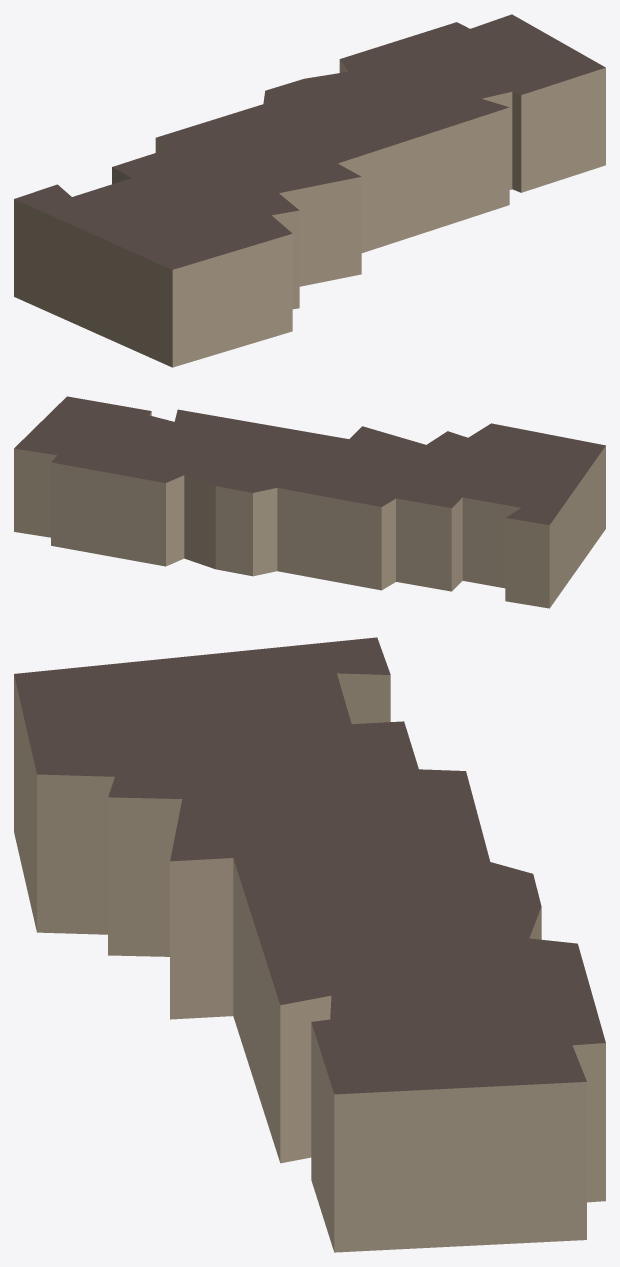
3 renders of one model, top to bottom at view 1: azimuth 30°, elevation 25°; view 2: azimuth 150°, elevation 25°; view 3: azimuth 270°, elevation 25°, orthographic. The views are drawn at different scales.
Visible parts, largest first — view 1: HP-w1516161972; view 2: HP-w1516161972; view 3: HP-w1516161972.
Boxes of the visible parts, box(x1,y1,x2,y2) form: HP-w1516161972: box(14, 14, 605, 367); HP-w1516161972: box(14, 396, 605, 608); HP-w1516161972: box(14, 637, 605, 1252).
Size of the model in its own units: 55.78 by 9 by 30.53.
